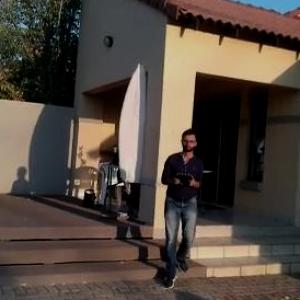follow: (154, 123, 205, 286)
